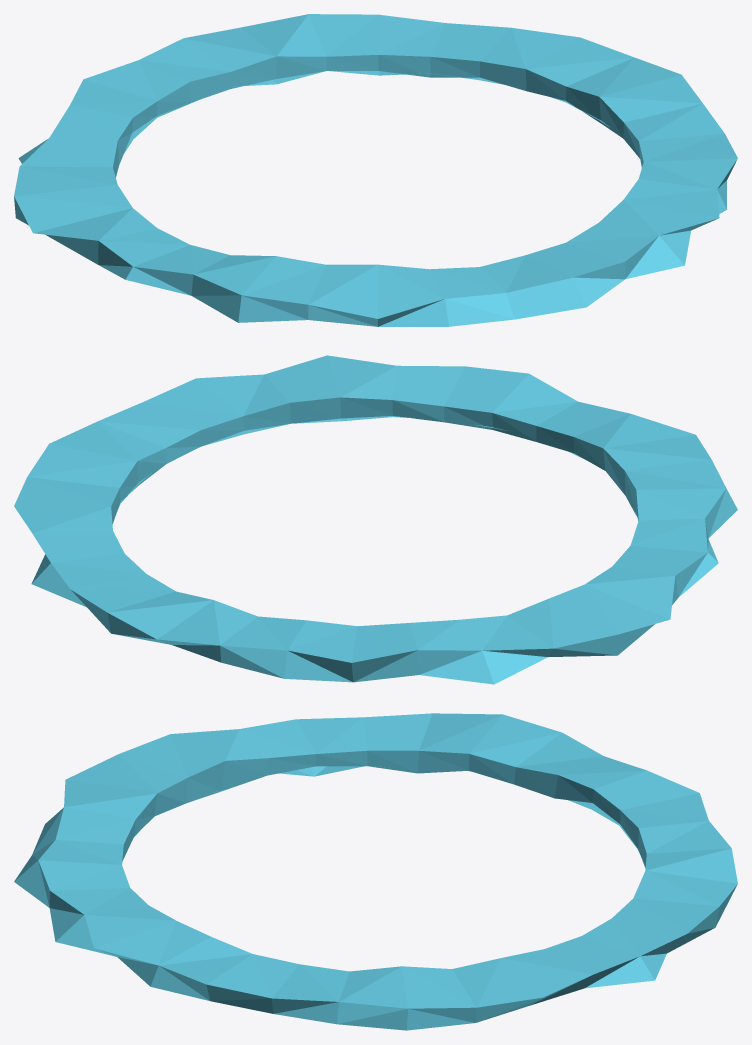
File: ringFour.fbx
3 views of the same model, one above another, from view 1: azimuth 30°, elevation 25°; view 2: azimuth 150°, elevation 25°; view 3: azimuth 270°, elevation 25° (orthographic).
Visible parts, largest first — view 1: Cylinder.006; view 2: Cylinder.006; view 3: Cylinder.006.
Part boxes in pixels (x1,y1,x2,y2): Cylinder.006: [14, 14, 737, 326]; Cylinder.006: [14, 355, 737, 684]; Cylinder.006: [14, 713, 737, 1030].
Bounding box in the file's own units: 2776 × 149 × 2750.
